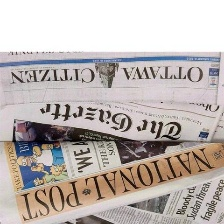news_paper: (0, 51, 223, 224)
